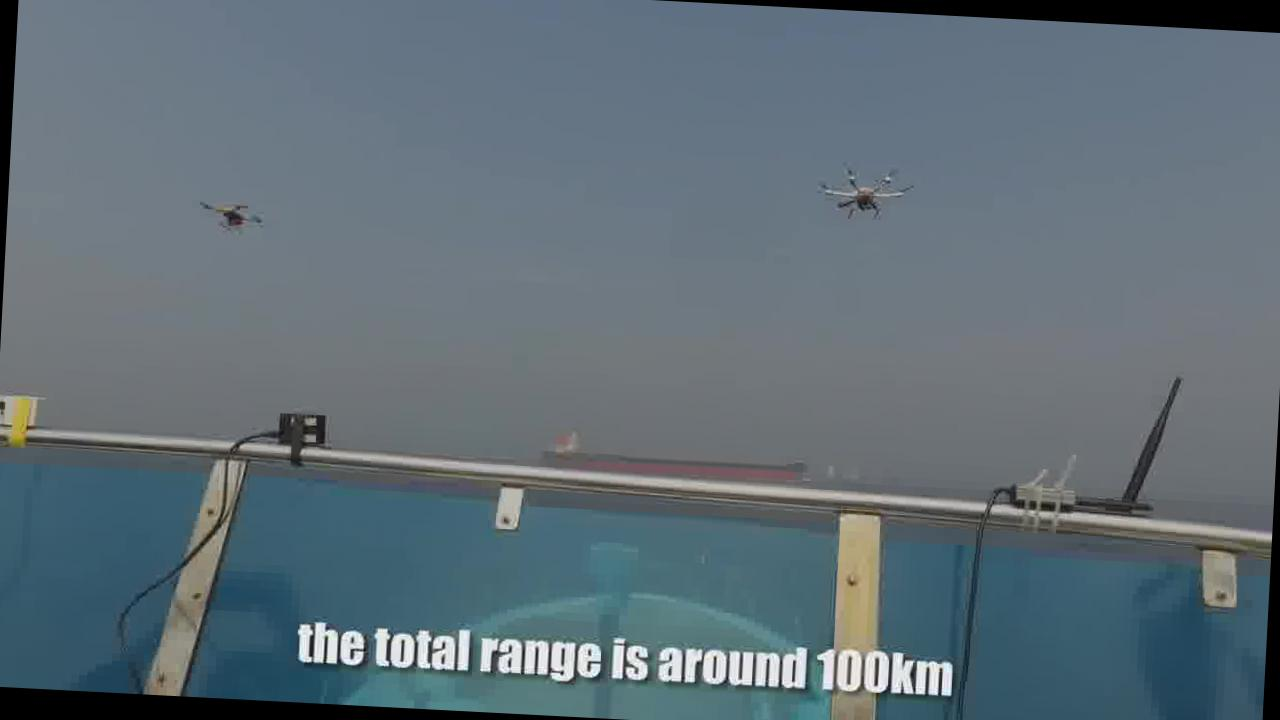drone: (812, 157, 916, 219), (194, 195, 268, 234)
